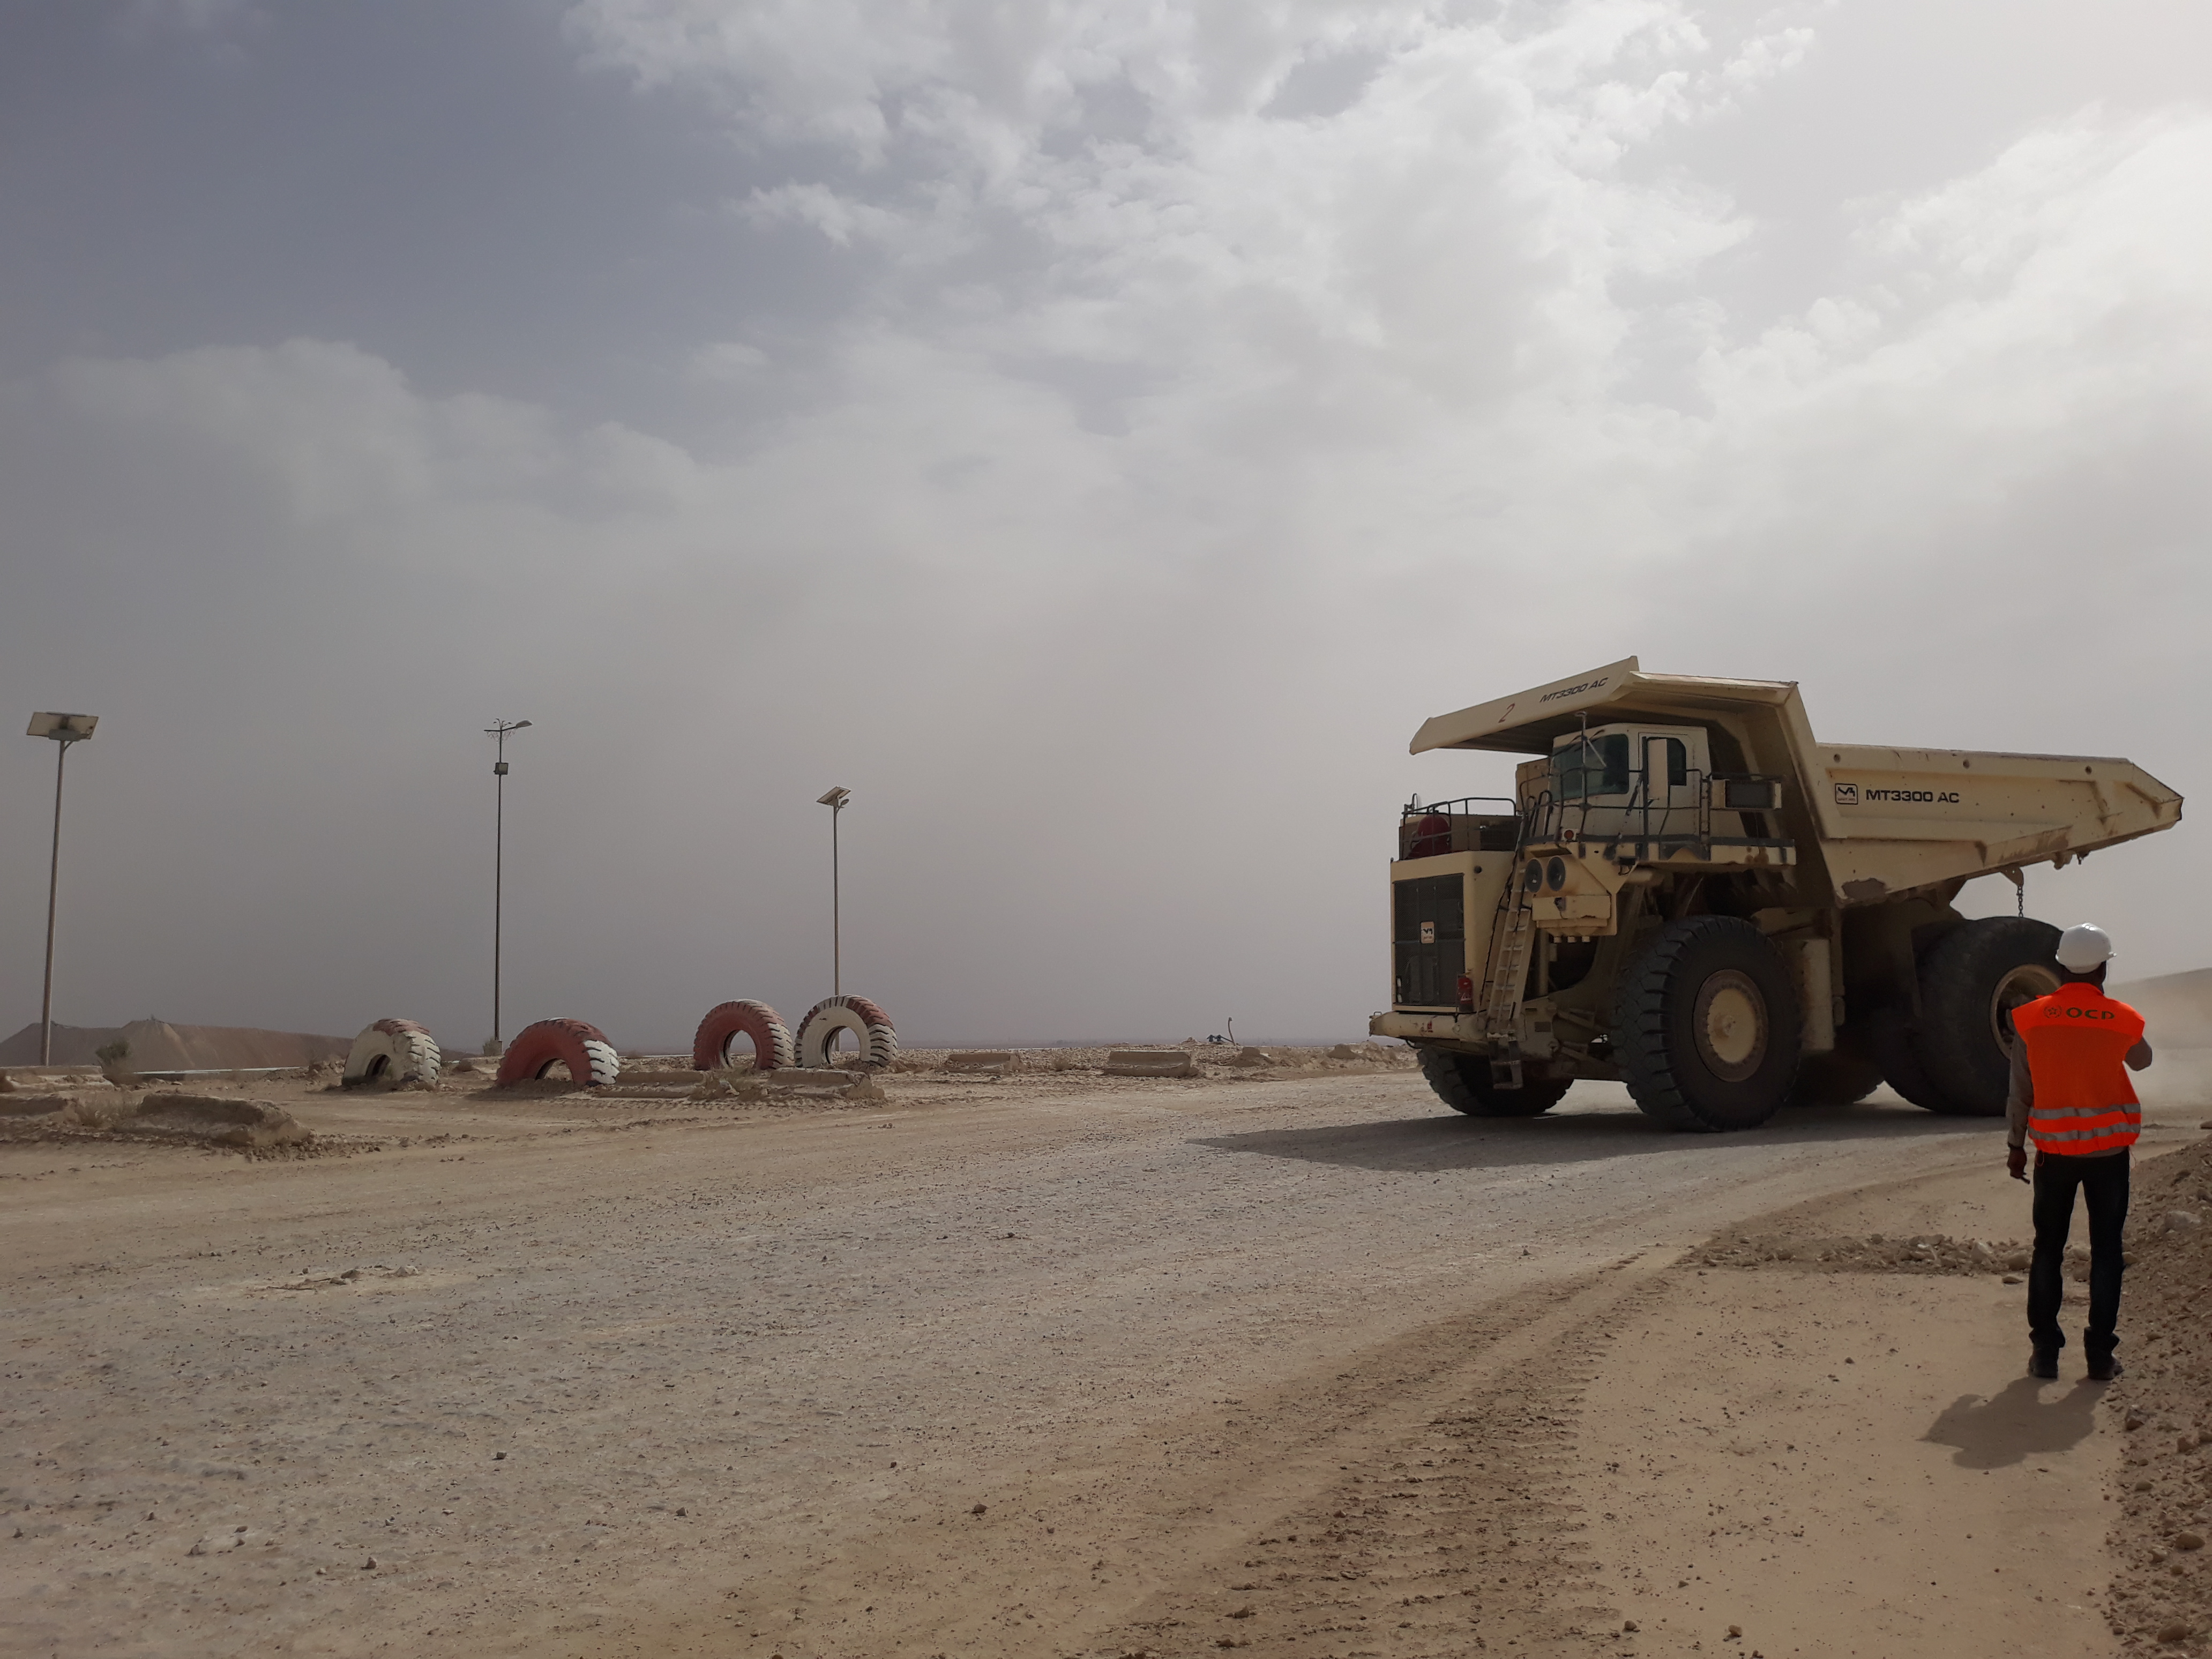camion: (1384, 652, 2195, 1181)
person: (2000, 902, 2165, 1430)
